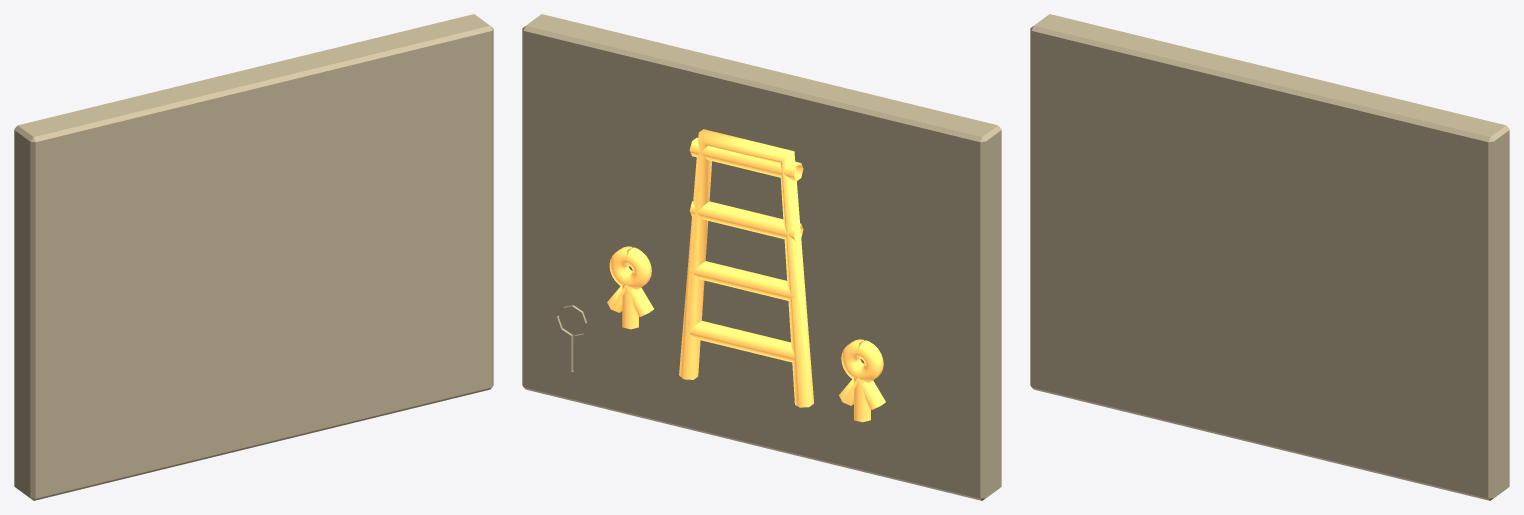
Rendered from mural_2.glb.
The picture shows the model from 3 angles, left to right: view 1: azimuth 30°, elevation 25°; view 2: azimuth 150°, elevation 25°; view 3: azimuth 330°, elevation 25°; orthographic projection.
Visible parts, largest first — view 1: mural_2; view 2: mural_2; view 3: mural_2.
Part boxes in pixels (x1,y1,x2,y2): mural_2: (14, 14, 493, 500); mural_2: (522, 14, 1001, 500); mural_2: (1030, 14, 1509, 500).
Bounding box in the file's own units: 4 × 3 × 0.452.
